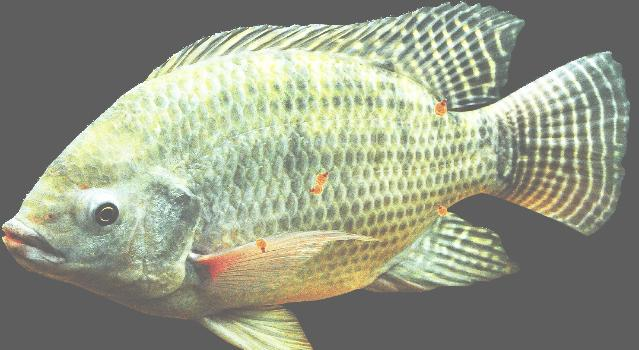Parasitic Disease: (2, 3, 630, 349)
